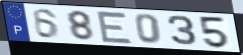0: (133, 12, 164, 46)
3: (166, 15, 199, 47)
5: (198, 15, 231, 50)
6: (31, 8, 62, 39)
8: (65, 10, 97, 42)
E: (95, 9, 135, 45)
